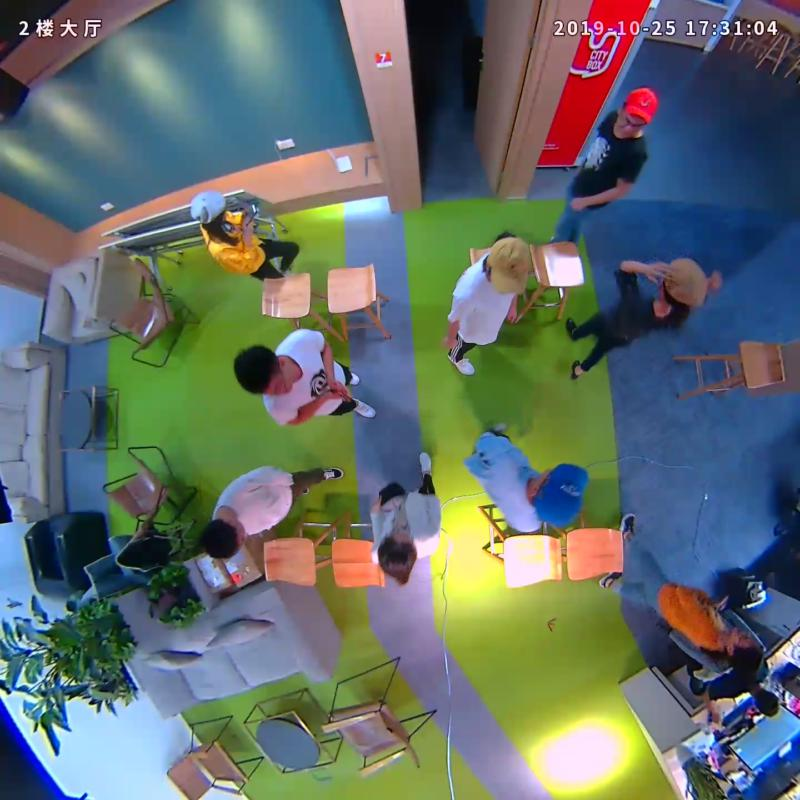head: (531, 463, 588, 530), (233, 344, 292, 397), (483, 236, 534, 297), (659, 257, 709, 313), (615, 87, 658, 136), (377, 526, 418, 577), (201, 519, 246, 561), (725, 626, 762, 674), (188, 189, 228, 229)
